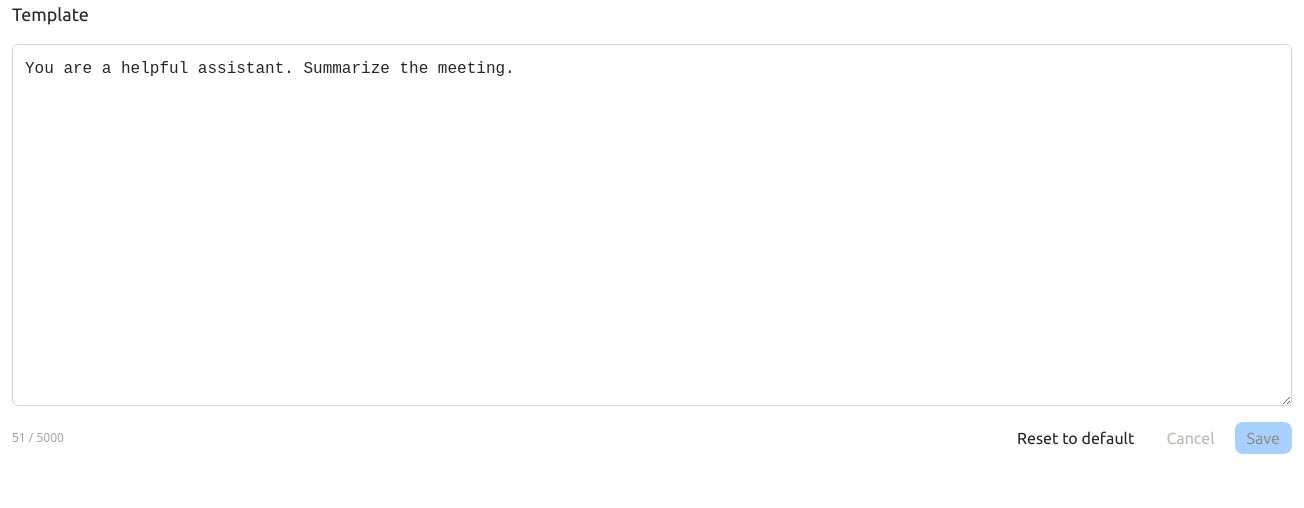
it: TemplateSection › "Reset to default" sets the textarea to the default prompt
This screenshot has width=1304, height=508.
Step 1. Click the button "Reset to default" → (1076, 438), box left=1005, top=422, right=1146, bottom=454
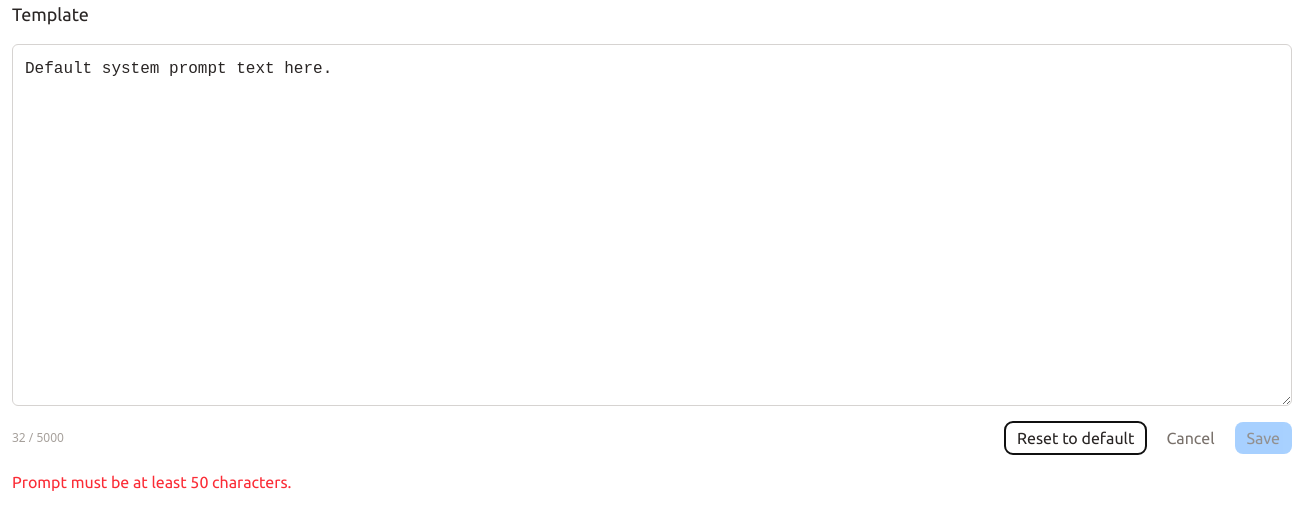
Expected: the text box holds "Default system prompt text here."
